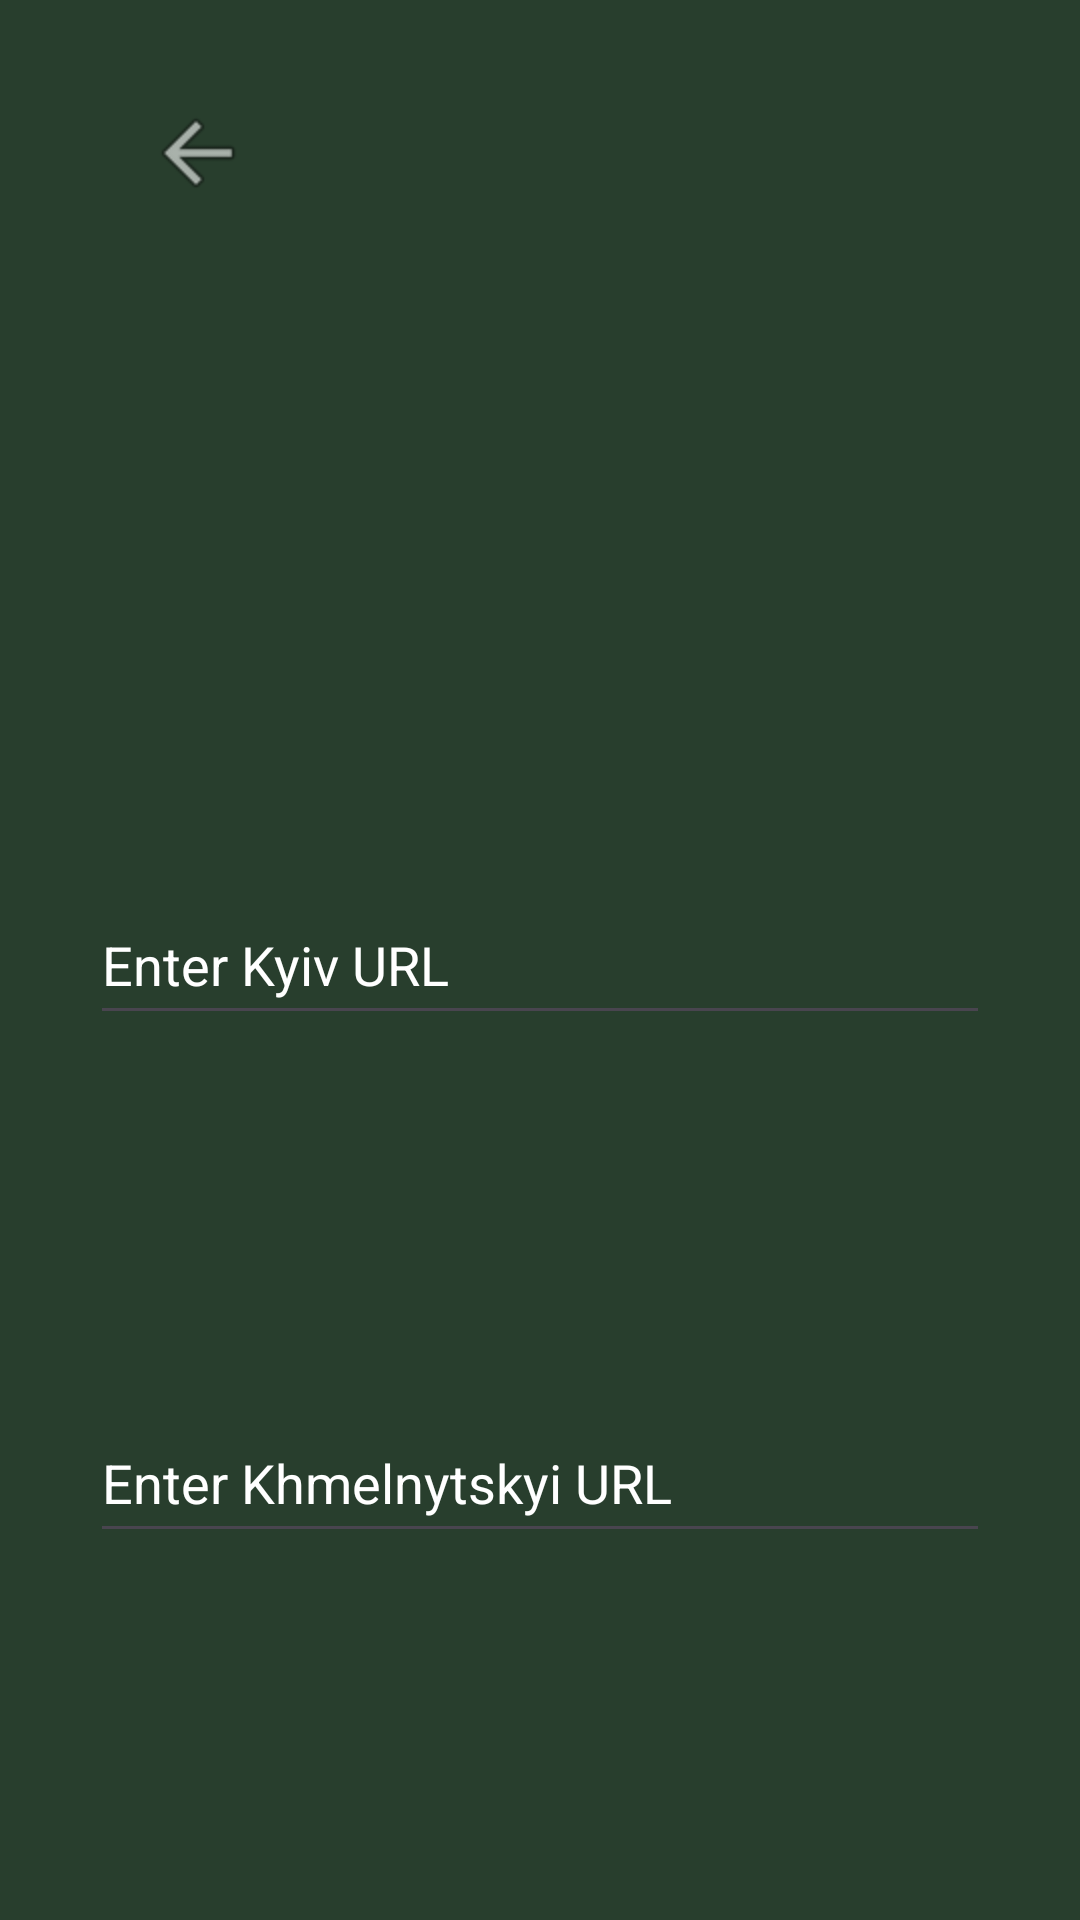

Icon bounding boxes for this 1080px x 1920px phone screenshot, format region(x1, y1, x2, y2):
Back Button: region(164, 121, 232, 185)
